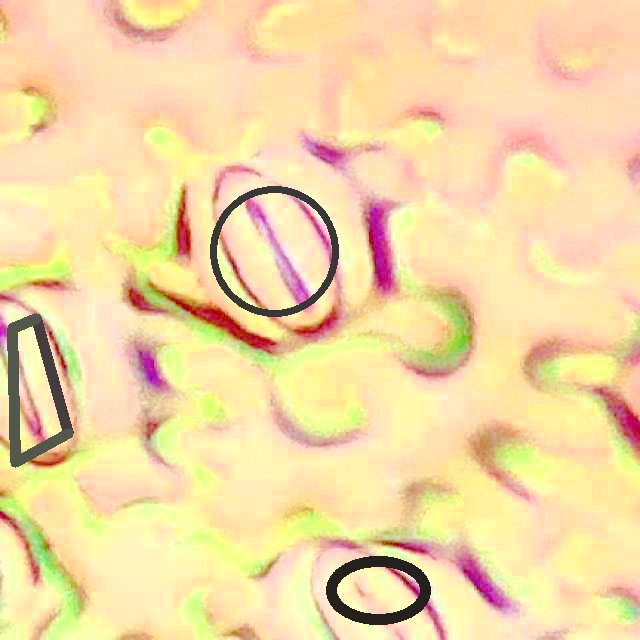open: (209, 185, 339, 317), (7, 313, 73, 466), (326, 555, 430, 625)
